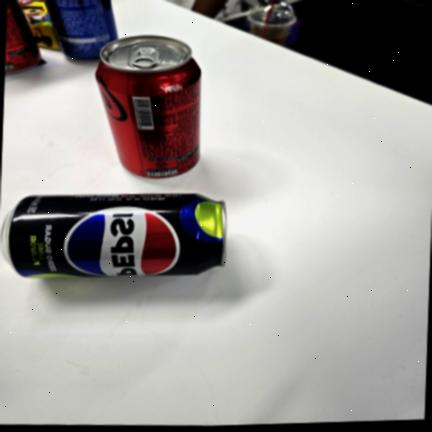can_coke_zero: (96, 35, 201, 178)
can_pepsi_zero: (1, 194, 227, 280)
